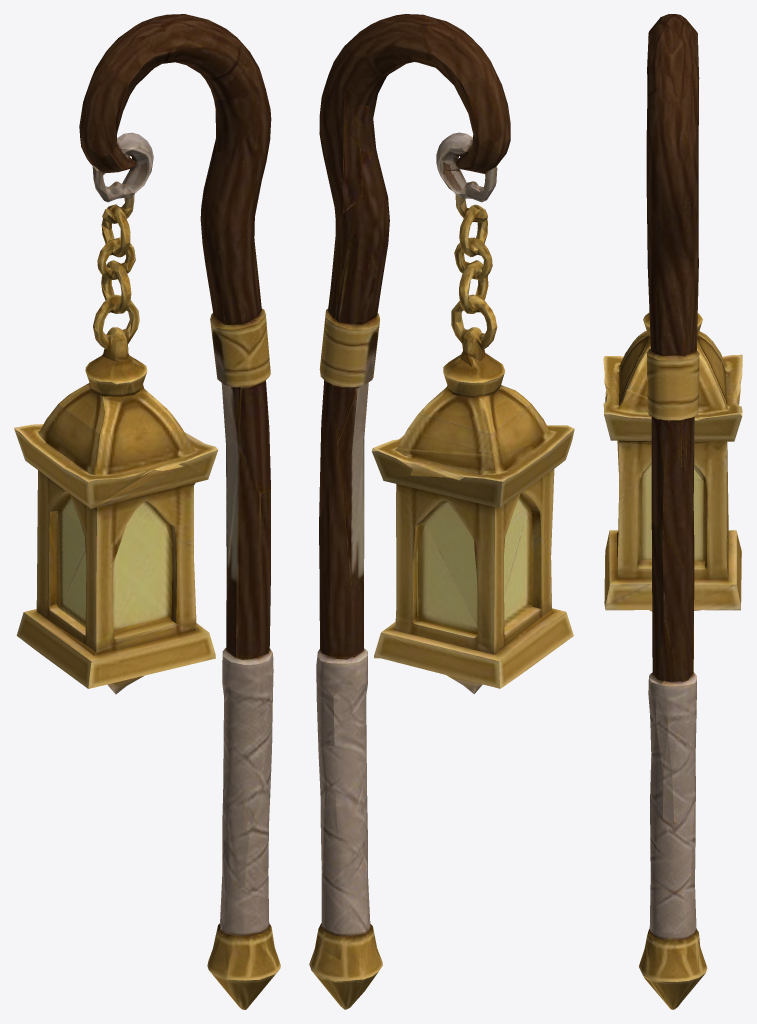
File: wayfarer_staff.glb
3 views of the same model, side by side, from view 1: azimuth 30°, elevation 25°; view 2: azimuth 150°, elevation 25°; view 3: azimuth 270°, elevation 25° (orthographic). The views are drawn at different scales.
Size of the model in its own units: 0.5017 by 2.15 by 0.2856.
1 material, 1 textured.
